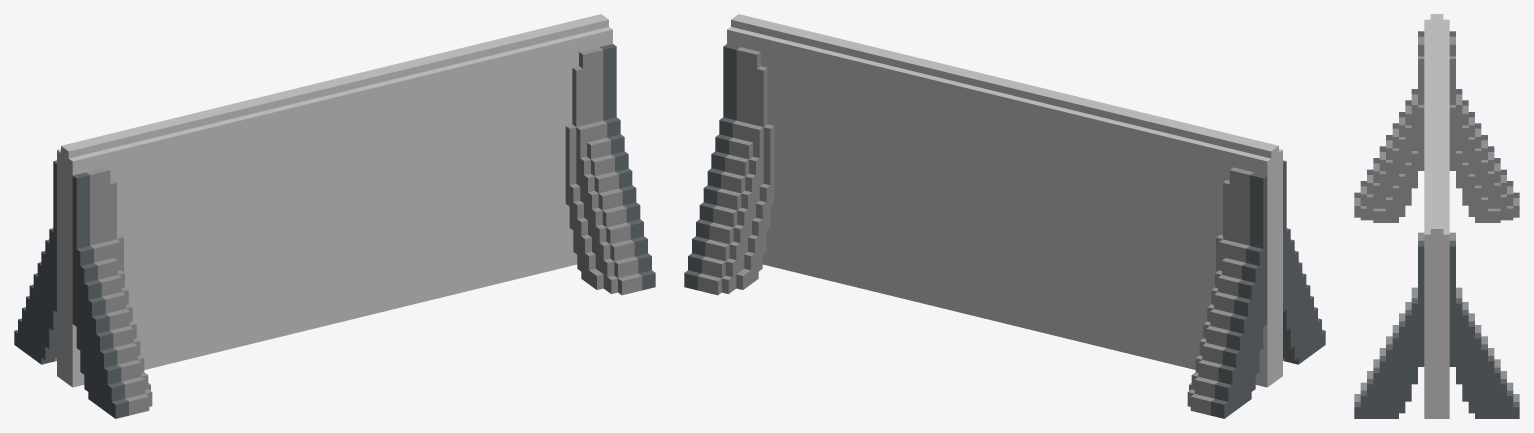
File: wall4_straight2.obj
The picture shows the model from 3 angles, left to right: view 1: azimuth 30°, elevation 25°; view 2: azimuth 150°, elevation 25°; view 3: azimuth 270°, elevation 25°; orthographic projection. The views are drawn at different scales.
Bounding box in the file's own units: 8 × 3.3 × 2.6.
Materials: 1 (1 with a texture image).
